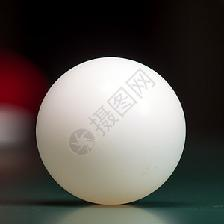WhiteBall: (34, 55, 185, 205)
